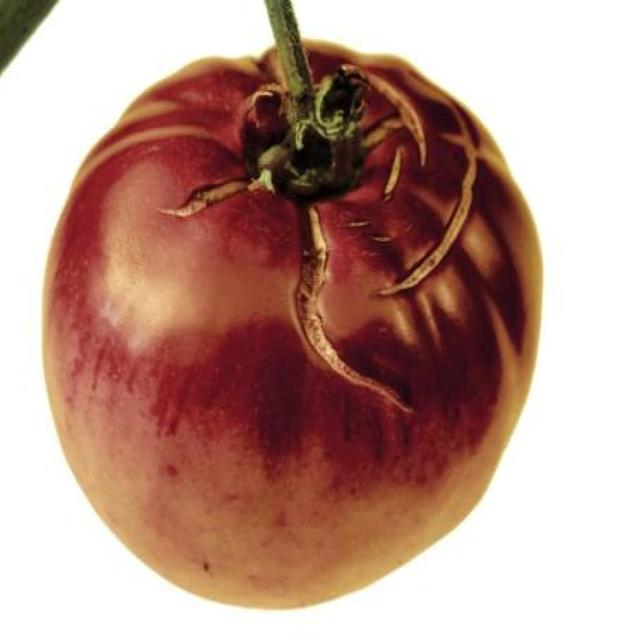Cracking Fruit: (69, 33, 285, 169)
